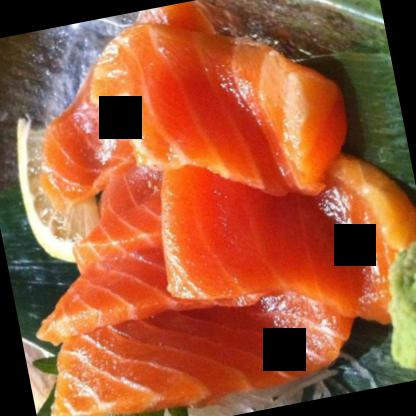salmon: (141, 123, 415, 364), (32, 213, 358, 415), (110, 0, 362, 224)
